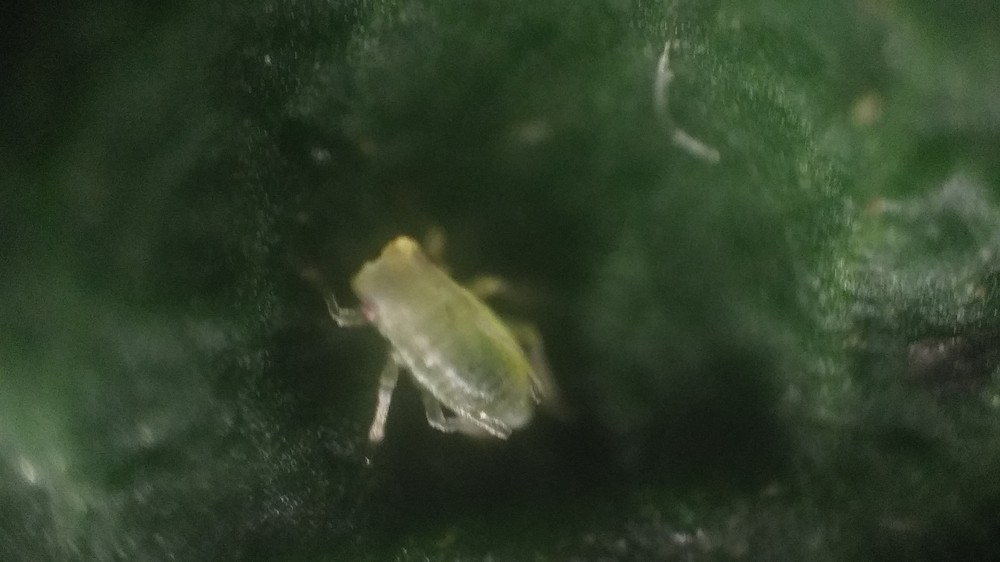Pulgon: (283, 199, 643, 504)
